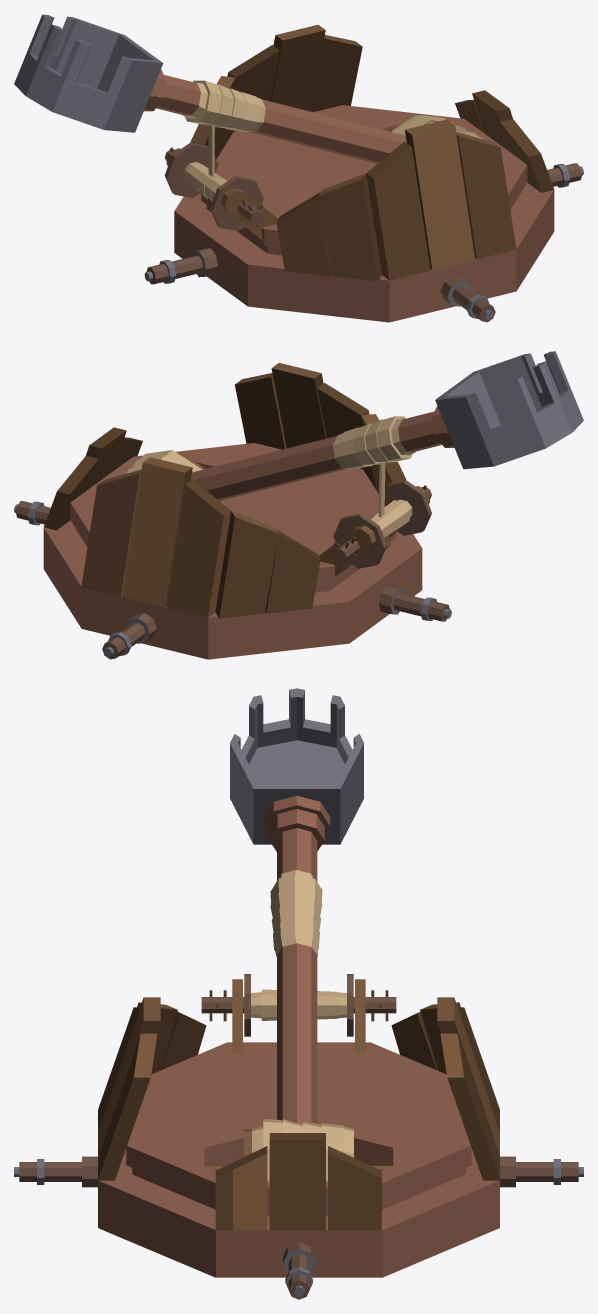
The model's file is ExplodedCatapult.fbx.
The picture shows the model from 3 angles, top to bottom: view 1: azimuth 30°, elevation 25°; view 2: azimuth 150°, elevation 25°; view 3: azimuth 270°, elevation 25°; orthographic projection. The views are drawn at different scales.
Parts seen in each view (by area): view 1: Cylinder.060, Cylinder.080, Cylinder.087, Cylinder.093, Cylinder.079, Cylinder.092, Cylinder.094, Cylinder.095, Cylinder.061, Cylinder.098, Cylinder.096, Cylinder.099 (+11 smaller); view 2: Cylinder.060, Cylinder.080, Cylinder.087, Cylinder.098, Cylinder.079, Cylinder.097, Cylinder.099, Cylinder.101, Cylinder.061, Cylinder.093, Cylinder.102, Cylinder.082 (+10 smaller); view 3: Cylinder.087, Cylinder.060, Cylinder.080, Cylinder.079, Cylinder.090, Cylinder.089, Cylinder.091, Cylinder.061, Cylinder.082, Cylinder.094, Cylinder.099, Cylinder.078 (+13 smaller).
Boxes of the visible parts, <box> form: Cylinder.060: <box>174,182,554,322</box>; Cylinder.080: <box>14,14,163,132</box>; Cylinder.087: <box>201,105,527,248</box>; Cylinder.093: <box>405,119,474,269</box>; Cylinder.079: <box>144,69,406,163</box>; Cylinder.092: <box>366,141,430,280</box>; Cylinder.094: <box>456,131,516,259</box>; Cylinder.095: <box>318,173,381,281</box>; Cylinder.061: <box>164,143,263,231</box>; Cylinder.098: <box>270,24,325,111</box>; Cylinder.096: <box>276,192,331,276</box>; Cylinder.099: <box>310,35,362,112</box>; Cylinder.060: <box>43,520,422,659</box>; Cylinder.080: <box>435,351,583,469</box>; Cylinder.087: <box>70,443,395,585</box>; Cylinder.098: <box>122,457,192,607</box>; Cylinder.079: <box>191,406,454,500</box>; Cylinder.097: <box>167,479,230,617</box>; Cylinder.099: <box>81,469,141,596</box>; Cylinder.101: <box>215,511,278,618</box>; Cylinder.061: <box>333,480,431,568</box>; Cylinder.093: <box>271,363,326,448</box>; Cylinder.102: <box>265,529,320,613</box>; Cylinder.082: <box>333,416,415,468</box>; Cylinder.087: <box>126,1042,471,1207</box>; Cylinder.060: <box>98,1148,499,1277</box>; Cylinder.080: <box>230,688,363,844</box>; Cylinder.079: <box>263,795,330,1124</box>; Cylinder.090: <box>269,1133,325,1230</box>; Cylinder.089: <box>328,1146,381,1230</box>; Cylinder.091: <box>215,1146,267,1230</box>; Cylinder.061: <box>201,974,396,1036</box>; Cylinder.082: <box>270,870,322,956</box>; Cylinder.094: <box>98,1033,157,1180</box>; Cylinder.099: <box>440,1033,499,1180</box>; Cylinder.078: <box>252,1119,353,1181</box>.
Bounding box in the file's own units: 1681 × 843 × 1312.
